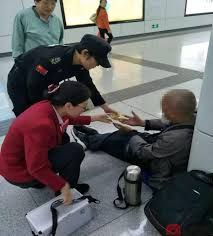fall: (64, 82, 197, 181)
